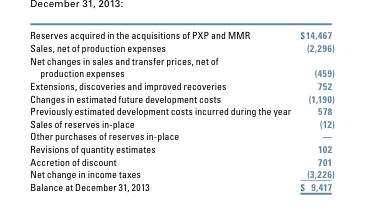table: (29, 28, 333, 192)
table column: (29, 28, 294, 192), (294, 28, 333, 192)
table row: (29, 53, 333, 78), (29, 40, 333, 53), (29, 78, 333, 91), (29, 91, 333, 104), (29, 116, 333, 129), (29, 141, 333, 154), (29, 154, 333, 167), (29, 179, 333, 192), (29, 28, 333, 40), (29, 104, 333, 116), (29, 129, 333, 141), (29, 167, 333, 179)
